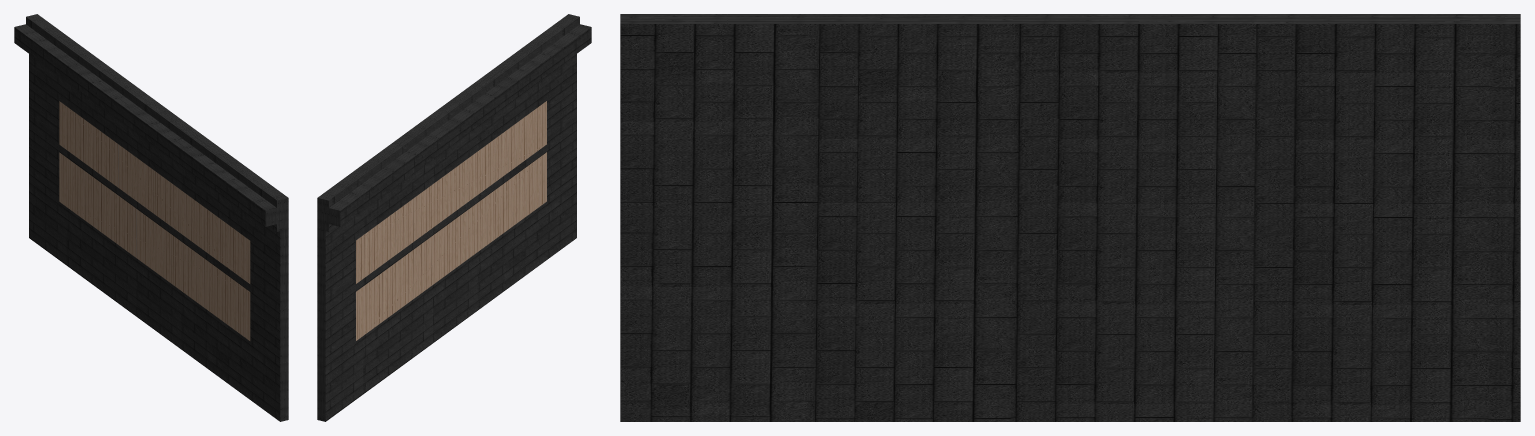
File: WallV7.fbx
3 views of the same model, side by side, from view 1: azimuth 30°, elevation 25°; view 2: azimuth 150°, elevation 25°; view 3: azimuth 270°, elevation 25° (orthographic). The views are drawn at different scales.
Parts seen in each view (by area): view 1: cafe_wall32; view 2: cafe_wall32; view 3: cafe_wall32.
Boxes of the visible parts, x1=… form: cafe_wall32: x1=14, y1=14, x2=288, y2=421; cafe_wall32: x1=317, y1=14, x2=591, y2=421; cafe_wall32: x1=620, y1=14, x2=1520, y2=421.
Bounding box in the file's own units: 63.22 × 584 × 1196.
